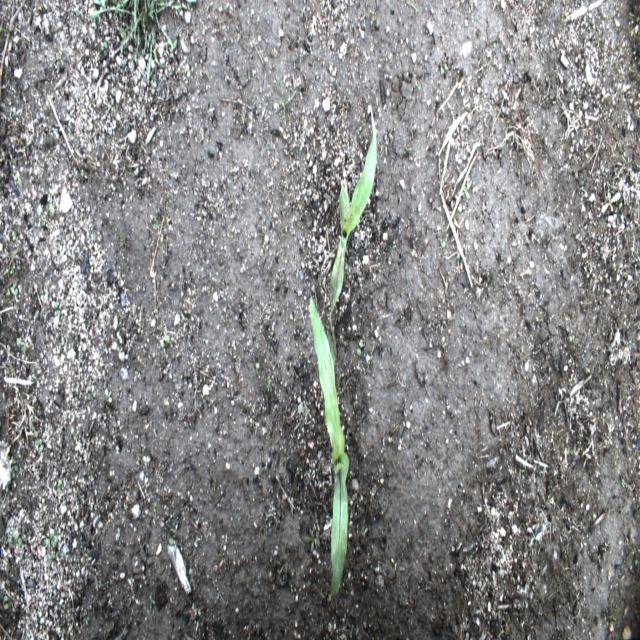crop: (327, 114, 380, 368), (307, 296, 349, 598)
weed: (88, 1, 192, 87), (271, 76, 299, 138), (352, 1, 378, 36), (44, 526, 62, 573), (115, 218, 133, 256), (36, 193, 58, 222), (4, 261, 20, 299), (304, 526, 320, 558), (5, 524, 22, 554), (51, 292, 65, 328), (31, 423, 46, 456), (10, 168, 27, 192), (9, 456, 22, 485), (32, 305, 48, 327), (0, 589, 11, 621), (459, 184, 473, 209), (159, 331, 174, 354), (166, 524, 179, 550), (8, 222, 19, 251), (80, 601, 90, 630), (55, 473, 67, 496), (566, 325, 578, 348), (17, 334, 29, 356)
